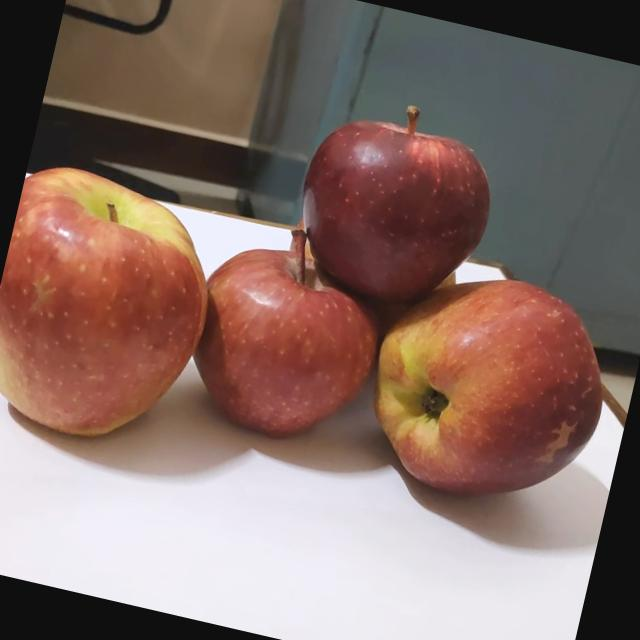apple: (342, 252, 624, 532), (0, 156, 227, 464), (273, 80, 513, 331), (167, 208, 399, 466), (409, 250, 467, 320)
